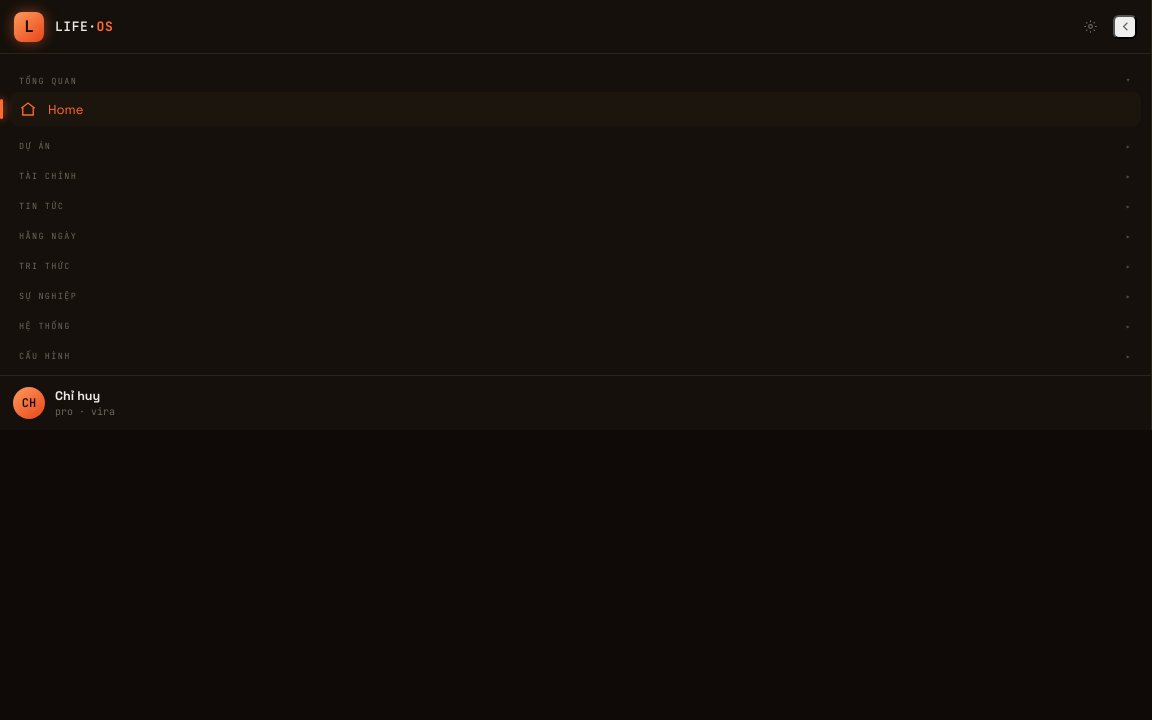
Test: #74 collapsible nav groups › clicking a collapsed section header expands it (reveals its items)
The width and height of the screenshot is (1152, 720).
Note: expand it
Step 1. Click the button with test id "nav-sec-toggle-Tài chính" → click(48, 176), box [10,157,1141,187]
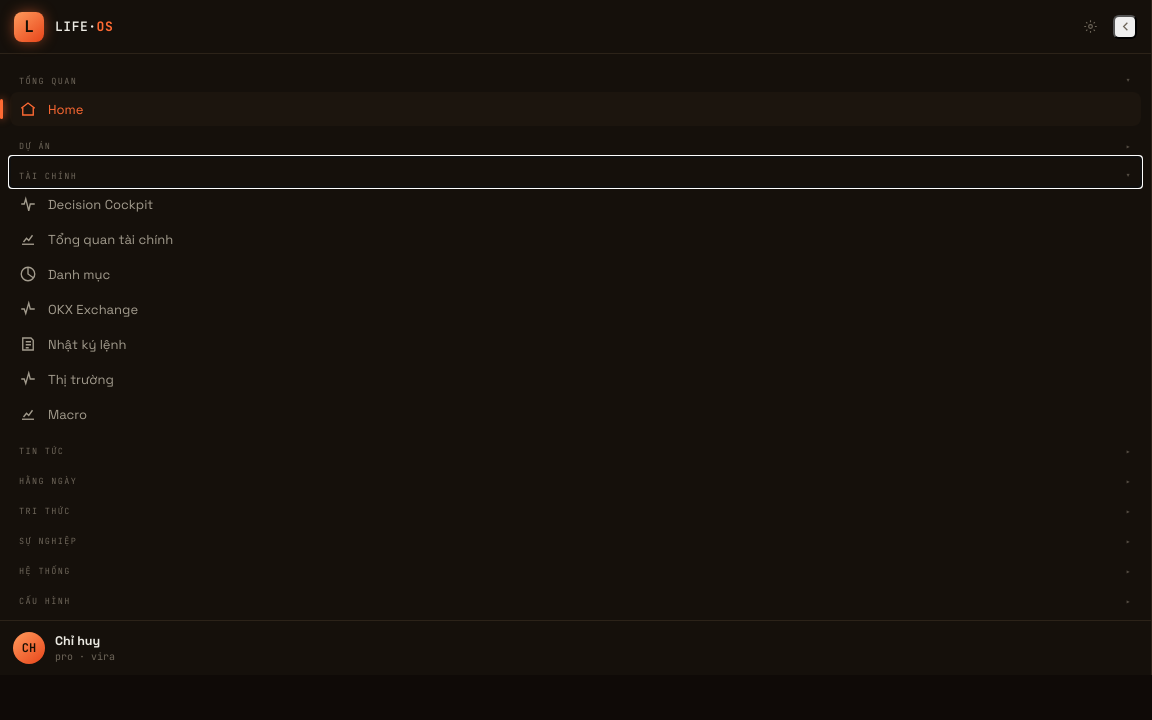
Expected: the link to "/finance" is shown, [19,230,173,248]
